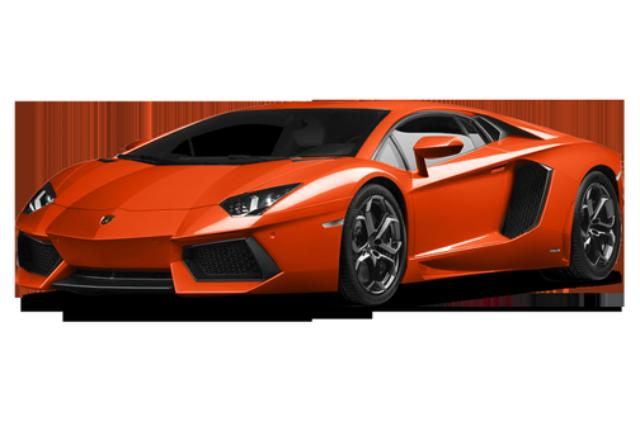lamborghini: (15, 100, 625, 306)
